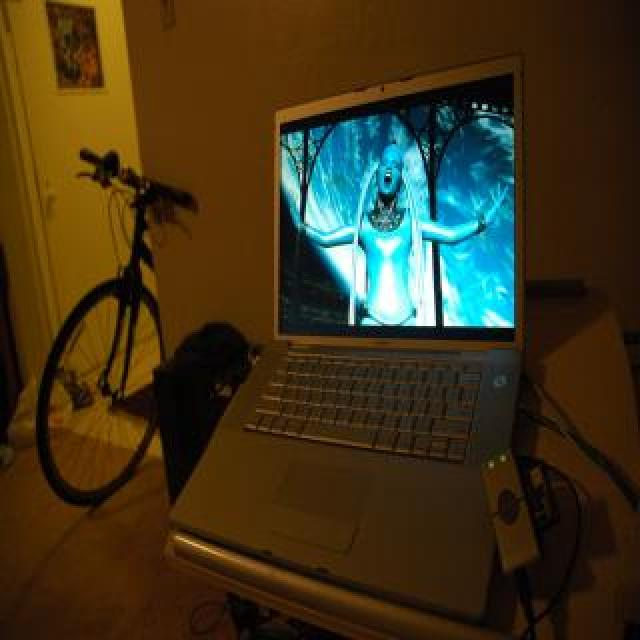laptop_computer: (241, 56, 554, 640)
